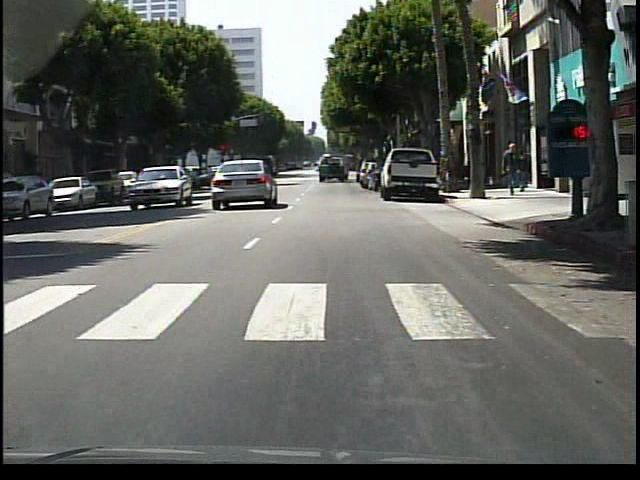person: (503, 142, 523, 199), (516, 148, 532, 193), (227, 159, 240, 202)
